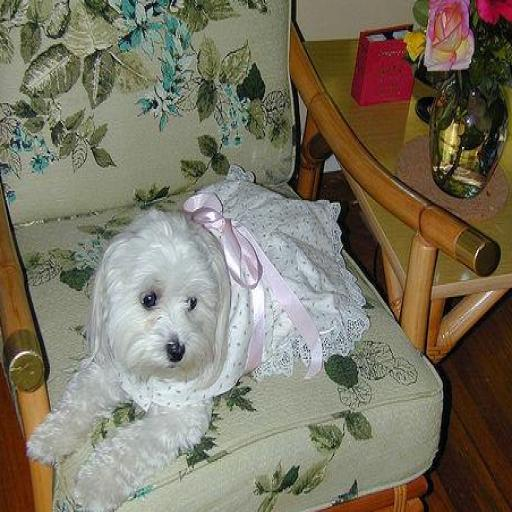dog_face: (92, 211, 230, 378)
